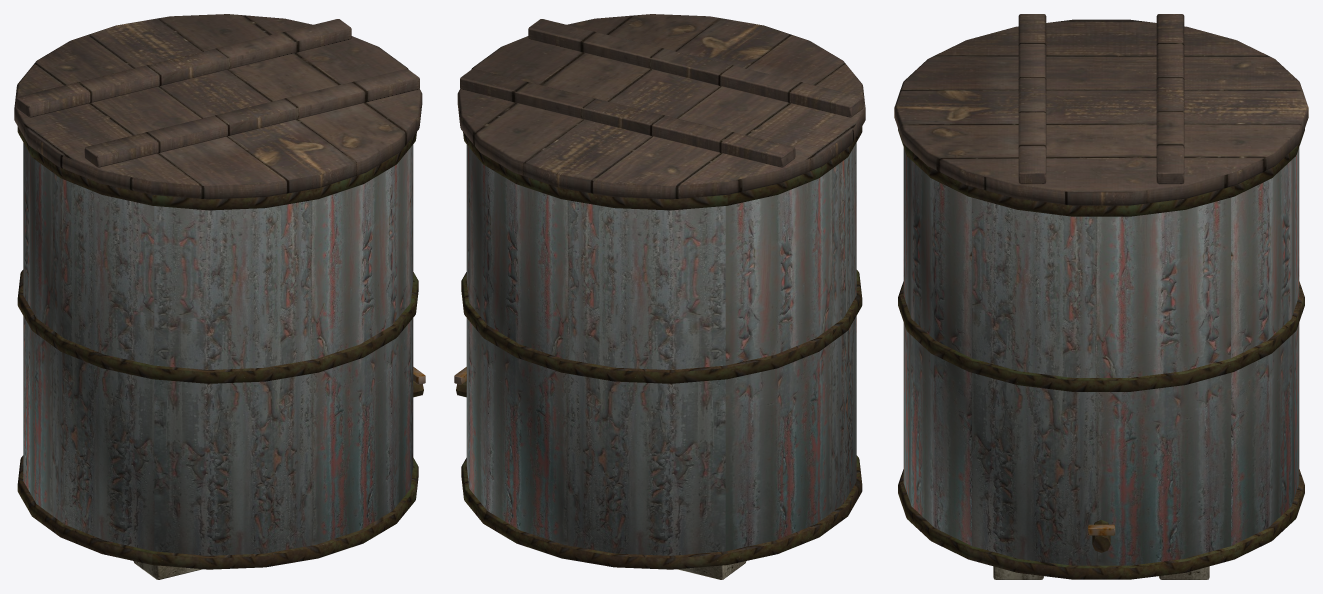
The model's file is deploy_barrel.glb.
3 renders of one model, left to right at view 1: azimuth 30°, elevation 25°; view 2: azimuth 150°, elevation 25°; view 3: azimuth 270°, elevation 25°, orthographic.
Visible parts, largest first — view 1: cyl, cyl.004, box.005, box.004, cyl.001, cyl.003, cyl.002, box.003; view 2: cyl, cyl.004, box.004, box.005, cyl.001, cyl.003, cyl.002, box.001; view 3: cyl, cyl.004, cyl.001, cyl.003, box.004, box.005, cyl.002.
Part boxes in pixels (box(x1,y1,x2,y2)): cyl: box(23, 143, 413, 555); cyl.004: box(14, 14, 422, 199); box.005: box(16, 19, 351, 117); box.004: box(84, 69, 419, 167); cyl.001: box(17, 455, 418, 569); cyl.003: box(17, 270, 418, 383); cyl.002: box(17, 126, 416, 210); box.003: box(133, 561, 202, 579); cyl: box(466, 143, 856, 555); cyl.004: box(457, 14, 865, 199); box.004: box(528, 19, 863, 117); box.005: box(460, 69, 795, 167); cyl.001: box(461, 455, 862, 569); cyl.003: box(461, 270, 862, 383); cyl.002: box(463, 126, 862, 210); box.001: box(677, 561, 746, 579); cyl: box(903, 147, 1299, 565); cyl.004: box(894, 19, 1308, 205); cyl.001: box(898, 469, 1304, 579); cyl.003: box(898, 281, 1304, 391); box.004: box(1018, 14, 1046, 184); box.005: box(1156, 14, 1184, 184); cyl.002: box(898, 129, 1304, 216).
Size of the model in its own units: 0.9554 by 1.03 by 0.9.
Materials: 5 (5 with a texture image).
